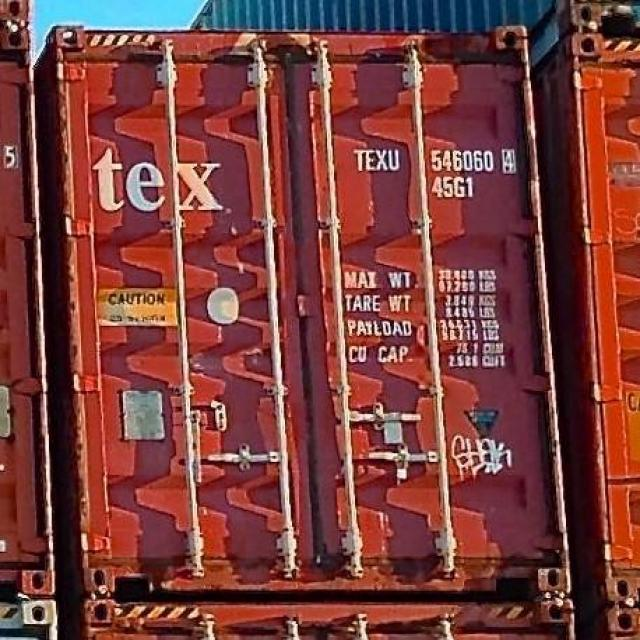ISO: (433, 176, 475, 196)
container_number: (352, 148, 516, 172)
